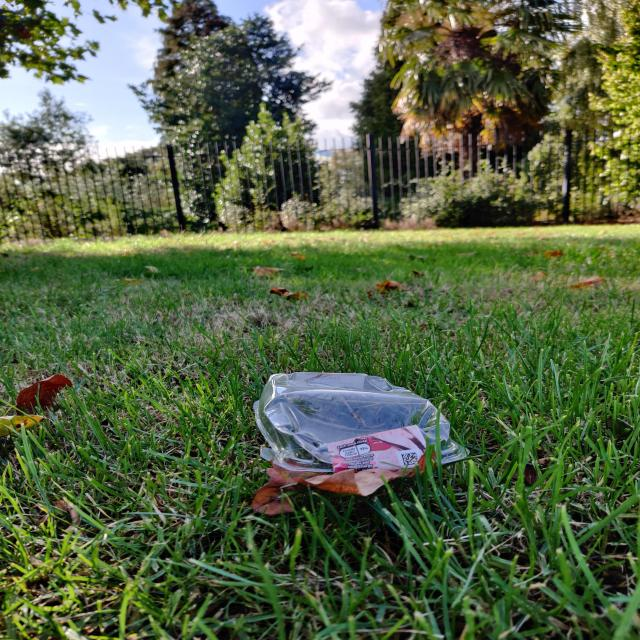litter: (251, 375, 465, 469)
